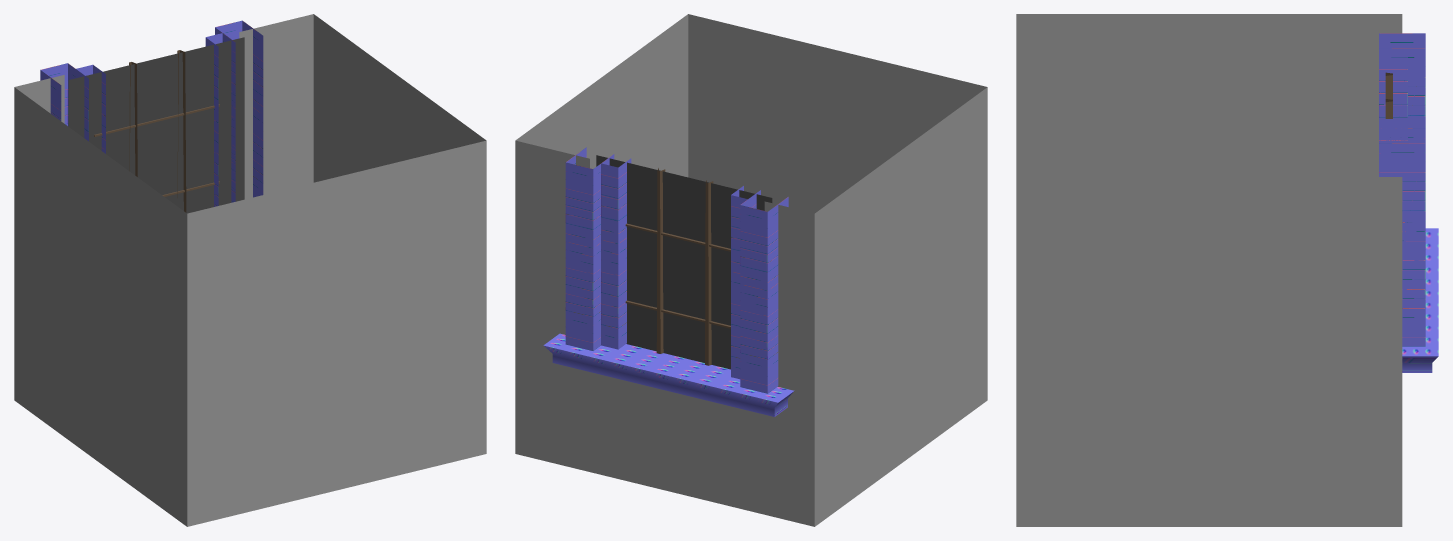
Rendered from Window_botttom.fbx.
The picture shows the model from 3 angles, left to right: view 1: azimuth 30°, elevation 25°; view 2: azimuth 150°, elevation 25°; view 3: azimuth 270°, elevation 25°; orthographic projection. The views are drawn at different scales.
Visible parts, largest first — view 1: Window_bottom; view 2: Window_bottom; view 3: Window_bottom.
Boxes of the visible parts, box(x1,y1,x2,y2) form: Window_bottom: box(14, 14, 486, 526); Window_bottom: box(515, 14, 987, 526); Window_bottom: box(1016, 14, 1438, 526).
Size of the model in its own units: 400 by 401 by 438.
